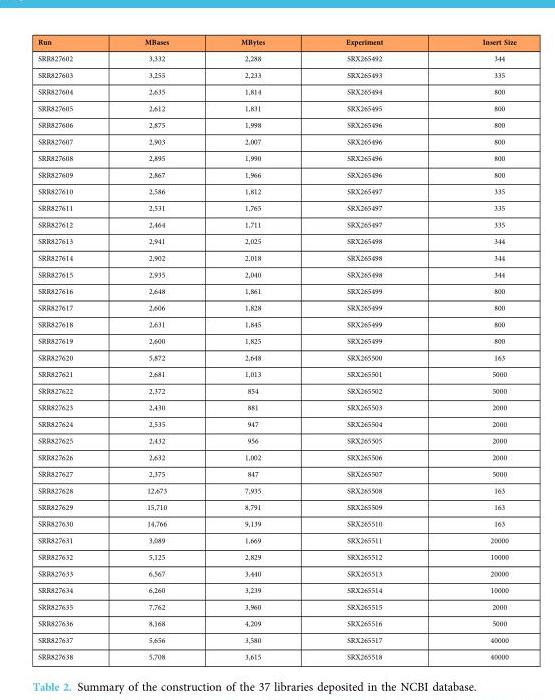table: (37, 37, 515, 660)
table column: (304, 37, 432, 660), (204, 37, 304, 660), (108, 37, 204, 660), (432, 37, 515, 660), (37, 37, 108, 660)
table column header: (37, 37, 515, 49)
table row: (37, 49, 515, 66), (37, 82, 515, 99), (37, 99, 515, 116), (37, 132, 515, 149), (37, 149, 515, 166), (37, 182, 515, 199), (37, 215, 515, 232), (37, 232, 515, 249), (37, 265, 515, 282), (37, 298, 515, 315), (37, 315, 515, 332), (37, 348, 515, 365), (37, 365, 515, 382), (37, 398, 515, 415), (37, 431, 515, 448), (37, 448, 515, 465), (37, 481, 515, 498), (37, 514, 515, 531), (37, 531, 515, 548), (37, 564, 515, 581), (37, 581, 515, 598), (37, 614, 515, 631), (37, 66, 515, 82), (37, 116, 515, 132), (37, 166, 515, 182), (37, 199, 515, 215), (37, 249, 515, 265), (37, 282, 515, 298), (37, 332, 515, 348), (37, 382, 515, 398), (37, 415, 515, 431), (37, 465, 515, 481), (37, 498, 515, 514), (37, 548, 515, 564), (37, 598, 515, 614), (37, 631, 515, 647), (37, 647, 515, 660), (37, 37, 515, 49)
